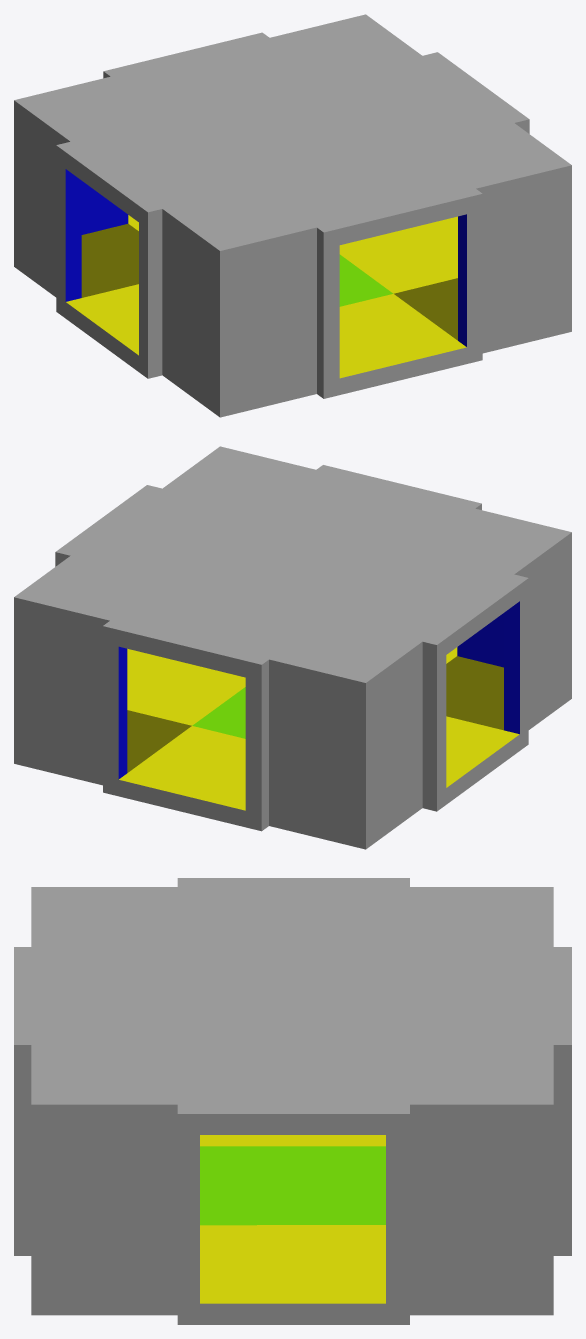
The model's file is Big area.fbx.
The picture shows the model from 3 angles, top to bottom: view 1: azimuth 30°, elevation 25°; view 2: azimuth 150°, elevation 25°; view 3: azimuth 270°, elevation 25°; orthographic projection. The views are drawn at different scales.
Parts seen in each view (by area): view 1: big_area_Fix11; view 2: big_area_Fix11; view 3: big_area_Fix11.
Part boxes in pixels (x1,y1,x2,y2): big_area_Fix11: [14, 14, 571, 417]; big_area_Fix11: [14, 446, 571, 849]; big_area_Fix11: [14, 878, 571, 1324].
Bounding box in the file's own units: 0.12 × 0.05 × 0.12.
